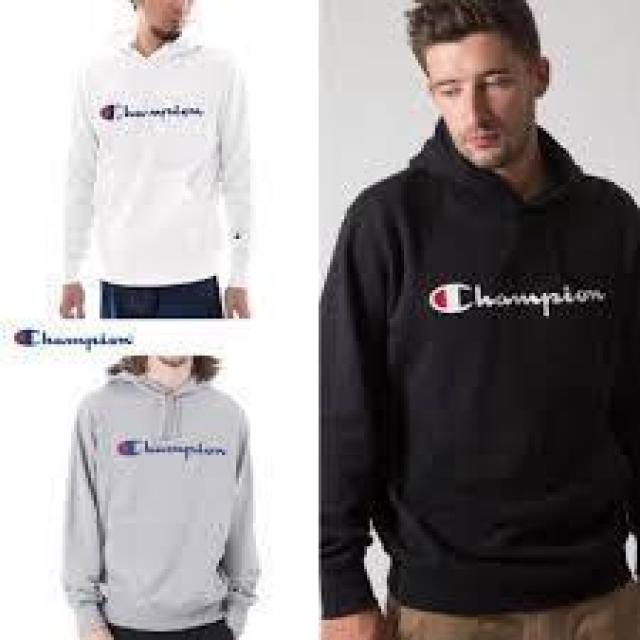sweater: (304, 131, 640, 617), (40, 360, 267, 636), (40, 36, 264, 300)
